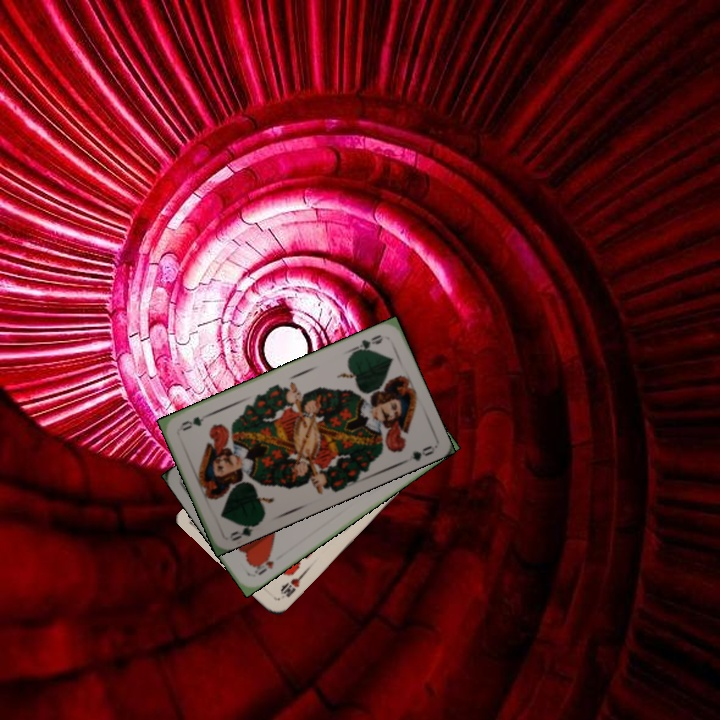GO: (225, 518, 262, 544), (348, 330, 385, 355)
H10: (276, 569, 307, 600)
HO: (250, 551, 276, 578)
